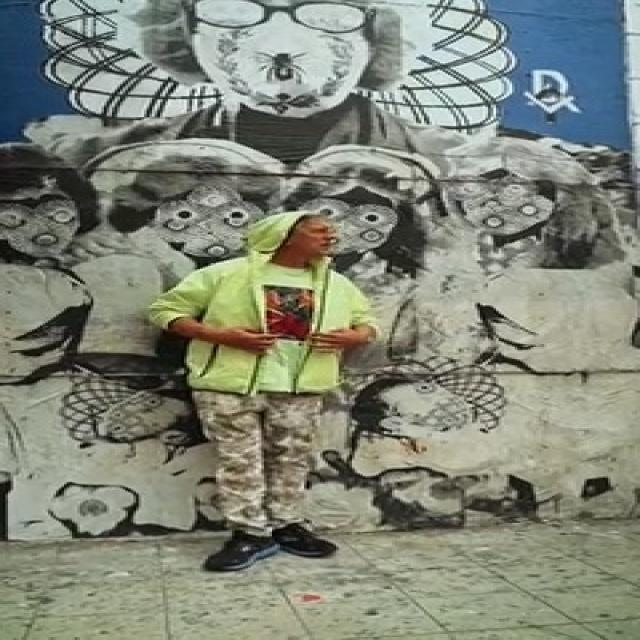Jacket_Wearer: (163, 250, 383, 417)
Person: (170, 209, 378, 553)
